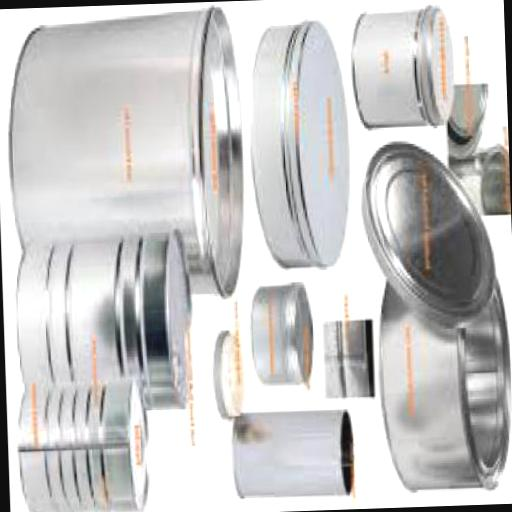metal: (10, 10, 248, 306), (376, 265, 512, 496), (14, 240, 192, 414), (246, 23, 354, 272), (362, 140, 497, 334), (15, 386, 147, 512), (352, 10, 456, 134), (230, 412, 356, 502), (248, 286, 316, 390), (446, 144, 510, 220), (446, 86, 488, 164), (212, 332, 246, 422)
